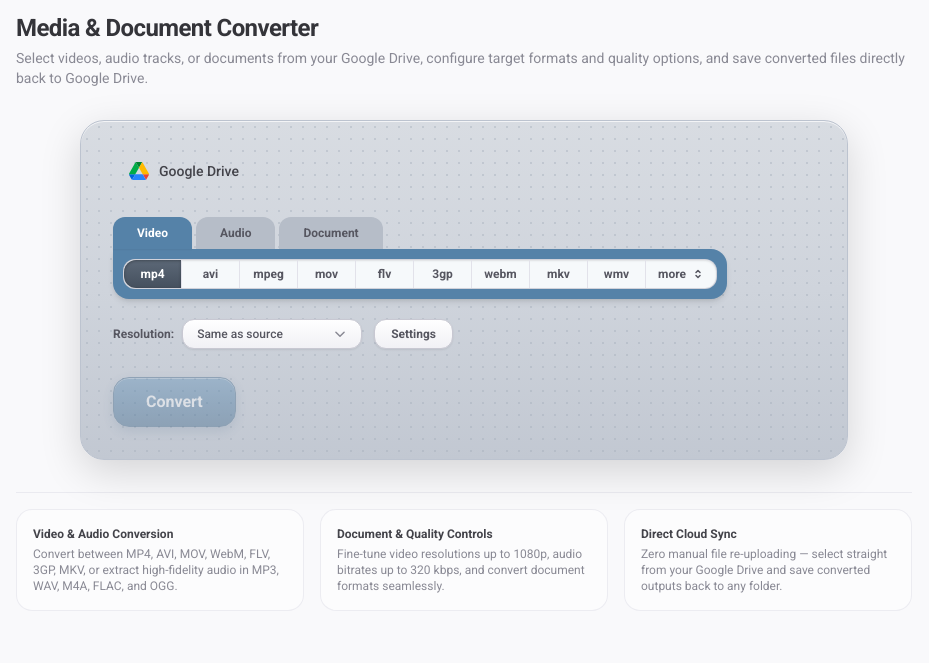
Test: ConverterPage & ConverterPanel › opens the Resolution dropdown and allows selecting a custom resolution preset
# Click the resolution dropdown trigger
Step 1. Click the button "Same as source" → x=272, y=334, box [182,319,362,349]
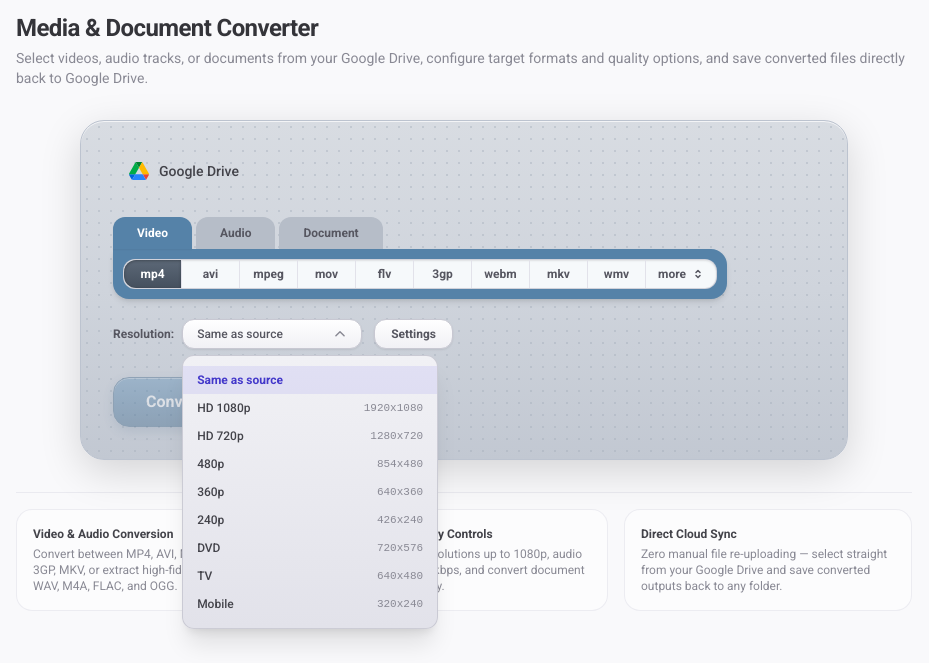
Now the text "HD 1080p" is shown
Now the text "1920x1080" is shown, box [364,400,423,416]
Now the text "HD 720p" is shown, box [197,428,244,444]
# Select HD 1080p
Step 2. Click the text "HD 1080p" → x=224, y=408, box [197,400,250,416]
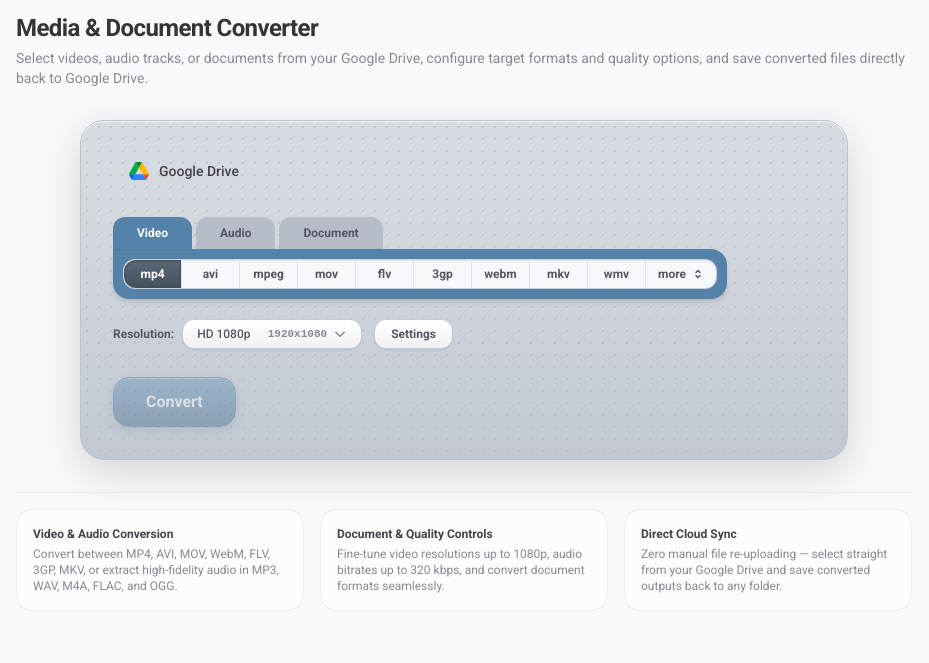
Now the text "HD 1080p" is shown, box [197,326,250,342]
